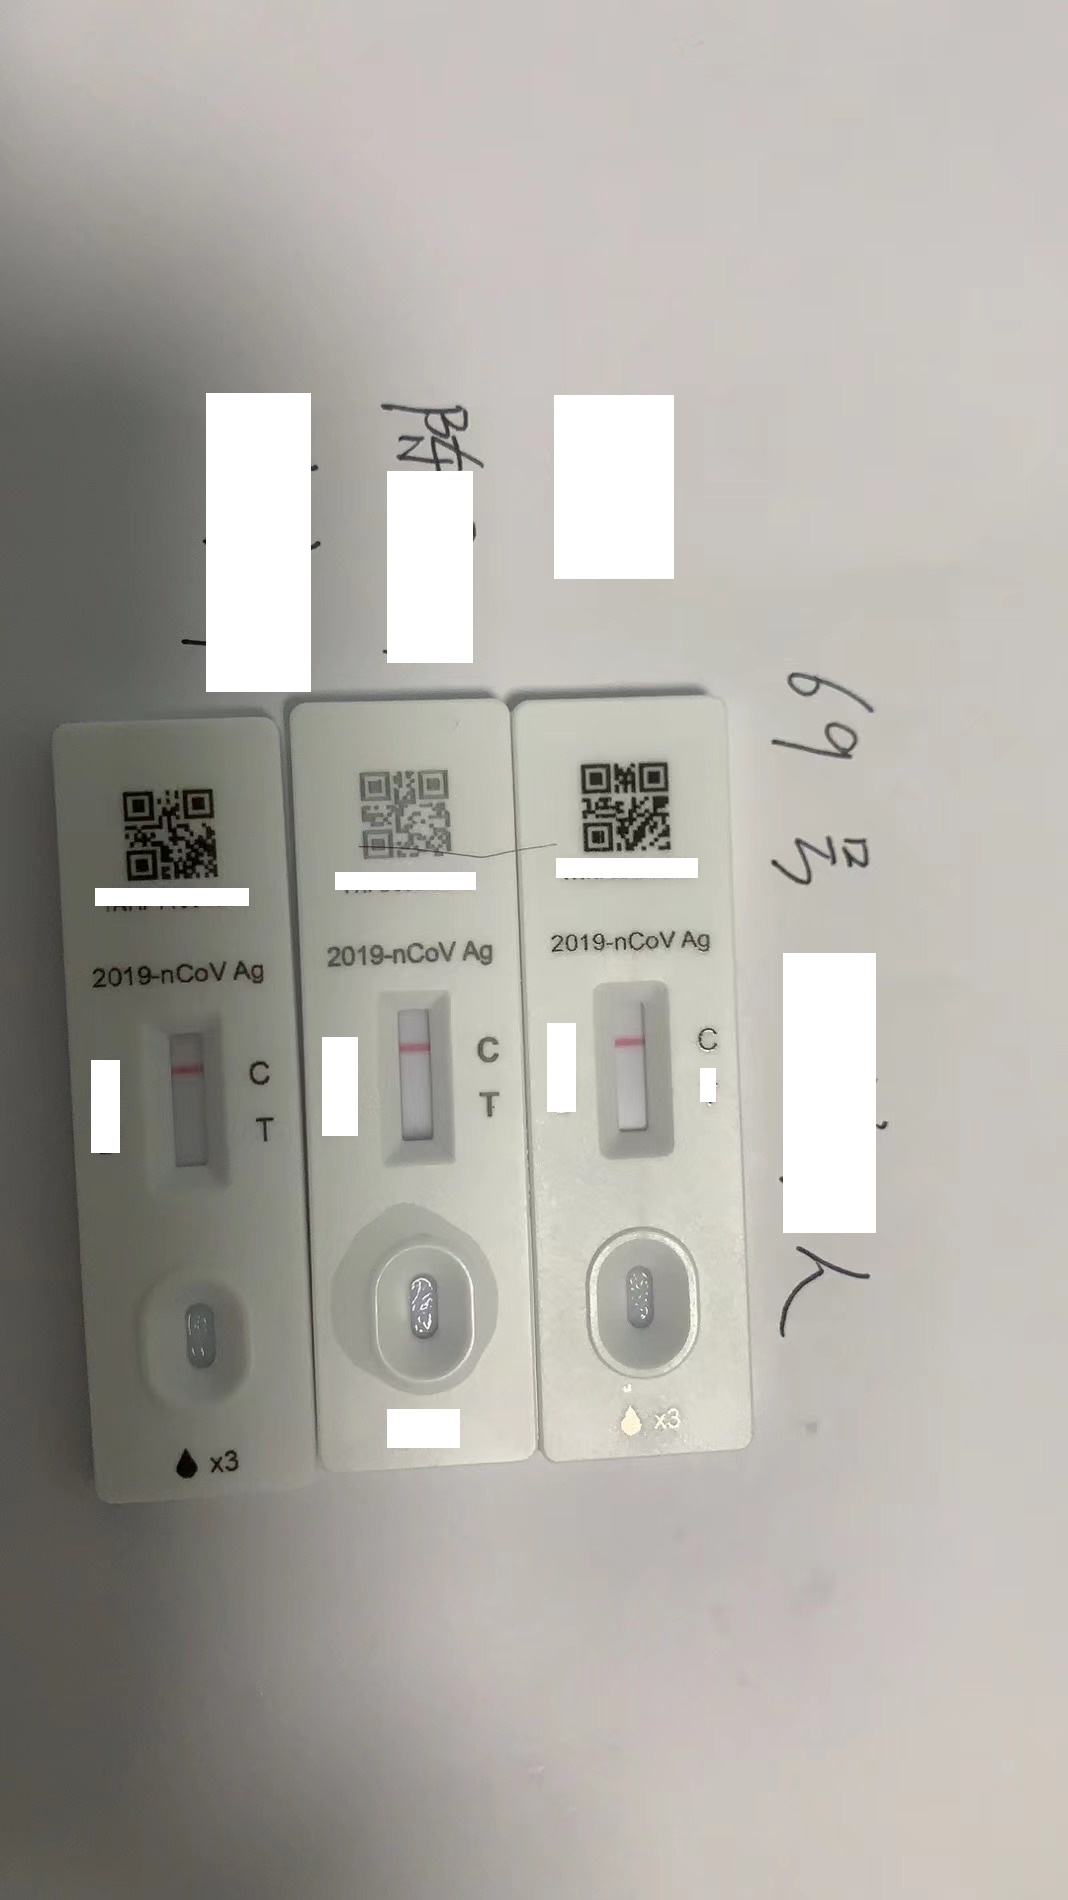negative: (595, 981, 678, 1159), (144, 1014, 225, 1187), (379, 987, 454, 1165)
